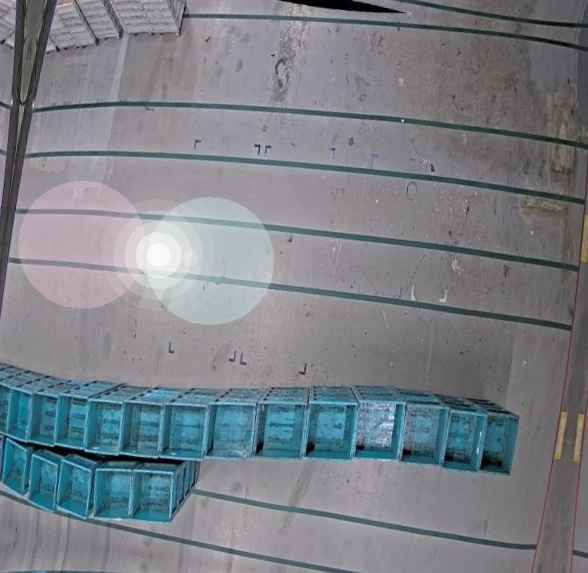Box: (302, 392, 361, 463), (203, 393, 262, 464), (254, 393, 311, 463), (127, 458, 183, 528), (159, 393, 213, 463), (398, 396, 451, 466), (352, 395, 404, 461), (121, 394, 168, 461), (439, 405, 485, 473), (81, 393, 128, 457), (476, 409, 520, 476), (22, 448, 65, 511), (53, 459, 94, 524), (90, 465, 133, 525), (53, 392, 90, 451), (27, 387, 62, 447), (0, 438, 29, 498), (5, 388, 34, 441), (0, 381, 15, 437), (0, 430, 12, 487), (55, 0, 82, 10), (73, 0, 103, 1)
